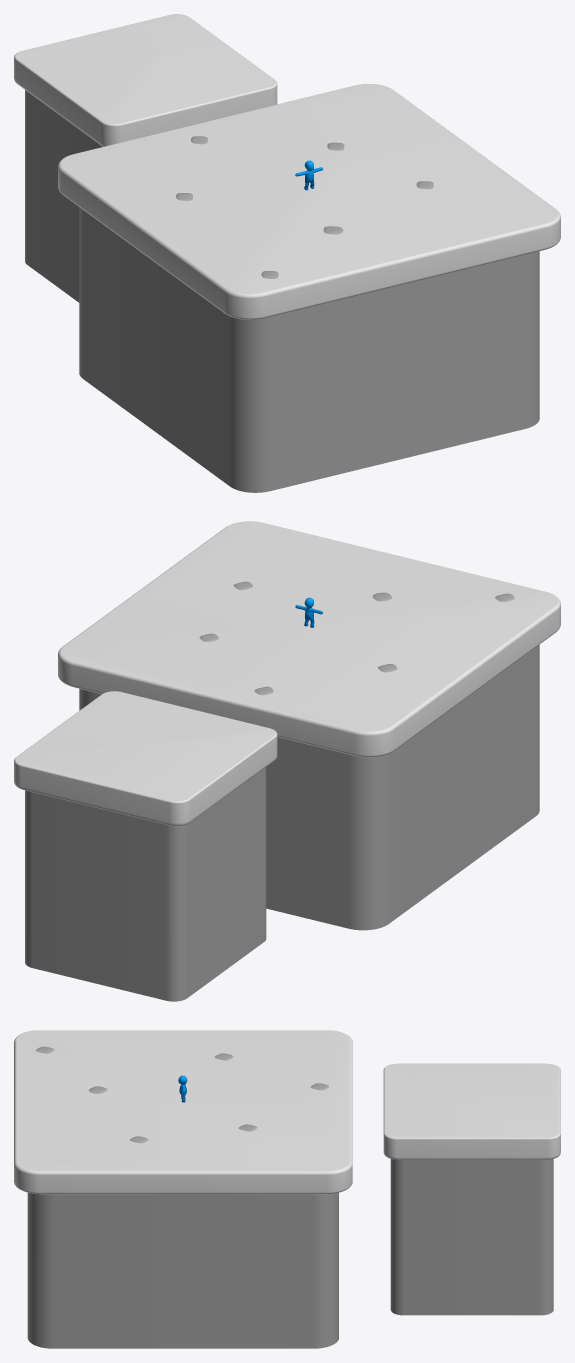
The model's file is msp.fbx.
3 views of the same model, one above another, from view 1: azimuth 30°, elevation 25°; view 2: azimuth 150°, elevation 25°; view 3: azimuth 270°, elevation 25° (orthographic). The views are drawn at different scales.
Parts seen in each view (by area): view 1: Cube, Cube.001, Cube.002; view 2: Cube, Cube.001, Cube.002; view 3: Cube, Cube.001, Cube.002.
Part boxes in pixels (<box>): Cube: <box>58,84,560,492</box>; Cube.001: <box>14,14,277,302</box>; Cube.002: <box>176,136,433,278</box>; Cube: <box>58,521,560,930</box>; Cube.001: <box>14,691,277,1001</box>; Cube.002: <box>199,581,514,695</box>; Cube: <box>14,1030,352,1348</box>; Cube.001: <box>383,1063,560,1315</box>; Cube.002: <box>35,1046,328,1143</box>.
Size of the model in its own units: 22.48 by 15.15 by 36.29.
